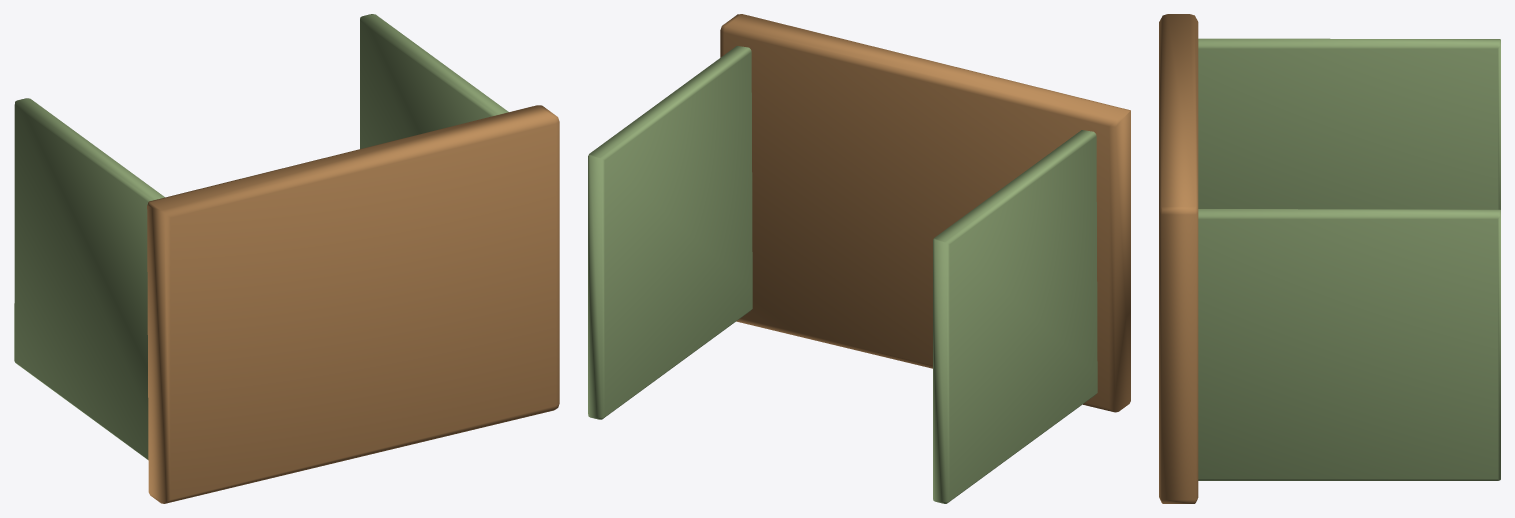
File: cow_station.glb
3 views of the same model, side by side, from view 1: azimuth 30°, elevation 25°; view 2: azimuth 150°, elevation 25°; view 3: azimuth 270°, elevation 25° (orthographic).
Parts seen in each view (by area): view 1: Platform, Rail, Rail.001; view 2: Platform, Rail.001, Rail; view 3: Rail.001, Rail, Platform.
Part boxes in pixels (x1,y1,x2,y2): Platform: (147,105,559,503); Rail: (14,98,164,459); Rail.001: (360,14,508,148); Platform: (720,14,1130,412); Rail.001: (588,46,752,419); Rail: (933,130,1097,503); Rail.001: (1198,209,1500,480); Rail: (1198,38,1500,209); Platform: (1159,14,1198,503).
Size of the model in its own units: 1.88 by 1.33 by 1.39.
